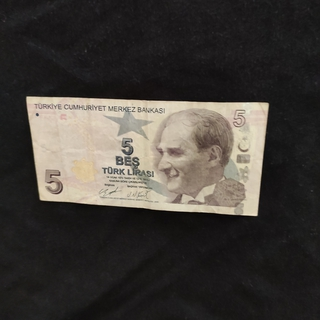5TLFront: (25, 94, 270, 217)
